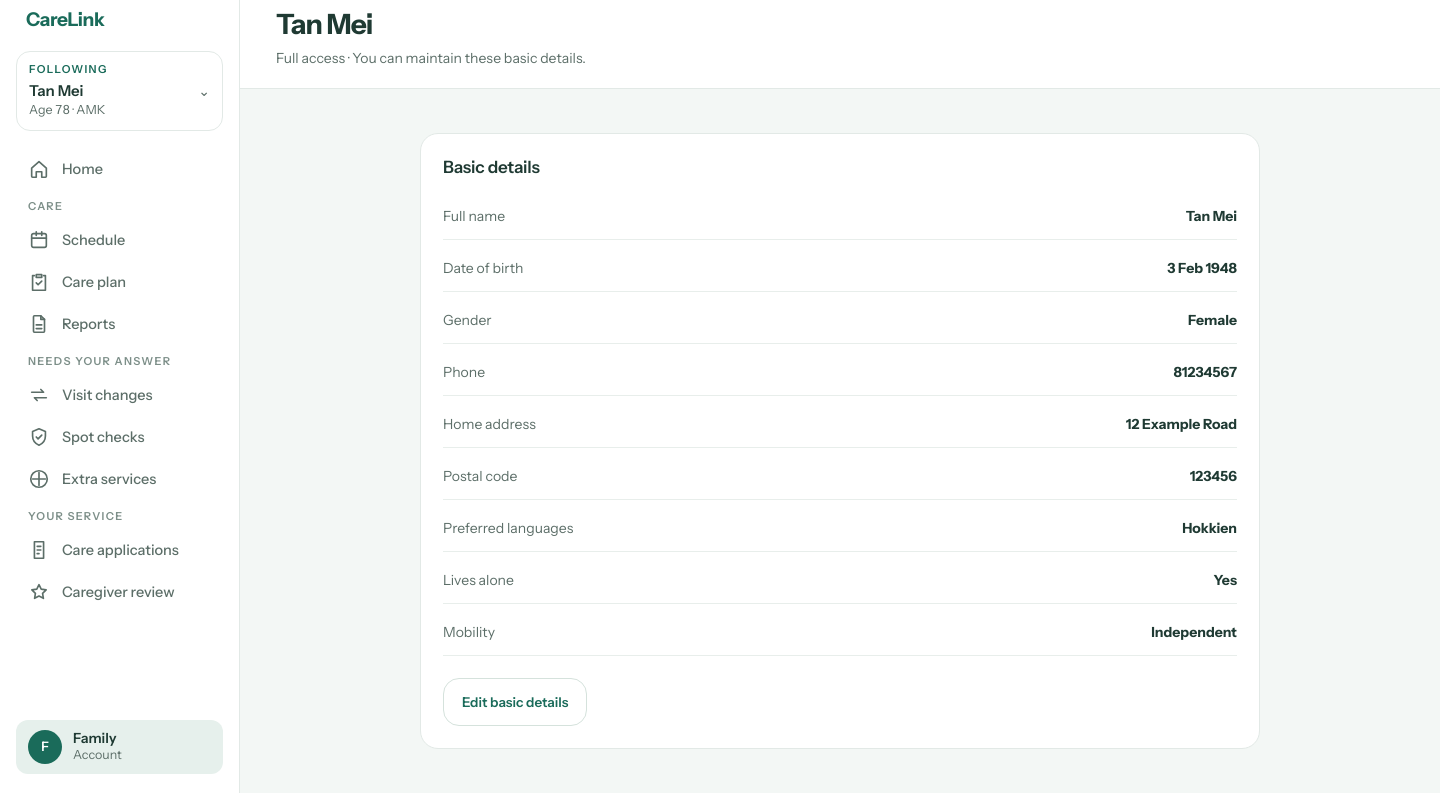
Scenario: My elders and basic details › cancels an edit and restores saved values when reopened
This screenshot has width=1440, height=793.
(page scrolled)
Click the button "Edit basic details".
click(515, 702)  # box x1=443 y1=678 x2=587 y2=726
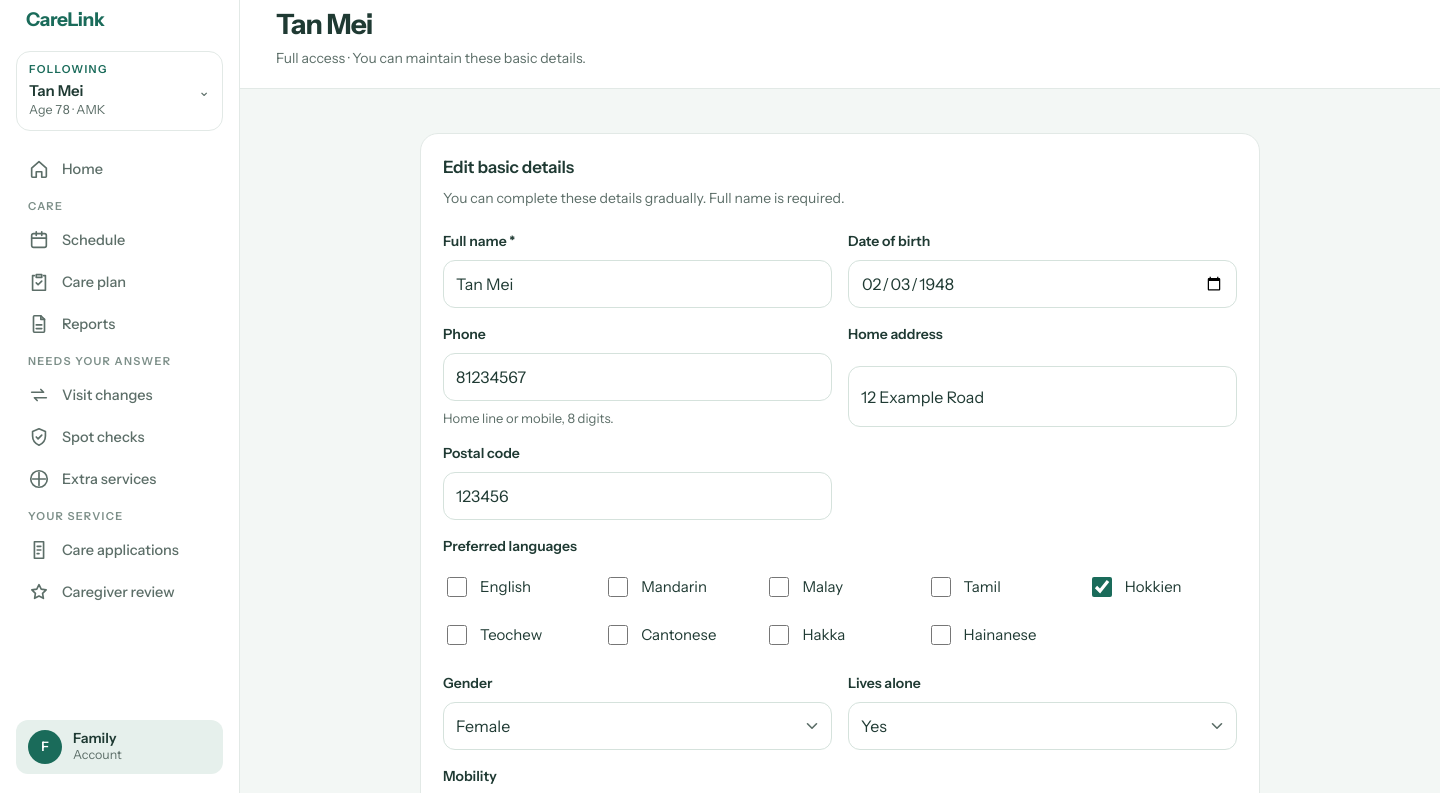
Replace the text in the field labelled "Full name *" with "Unsaved name" at [638, 284], box x1=443 y1=260 x2=832 y2=308
(page scrolled)
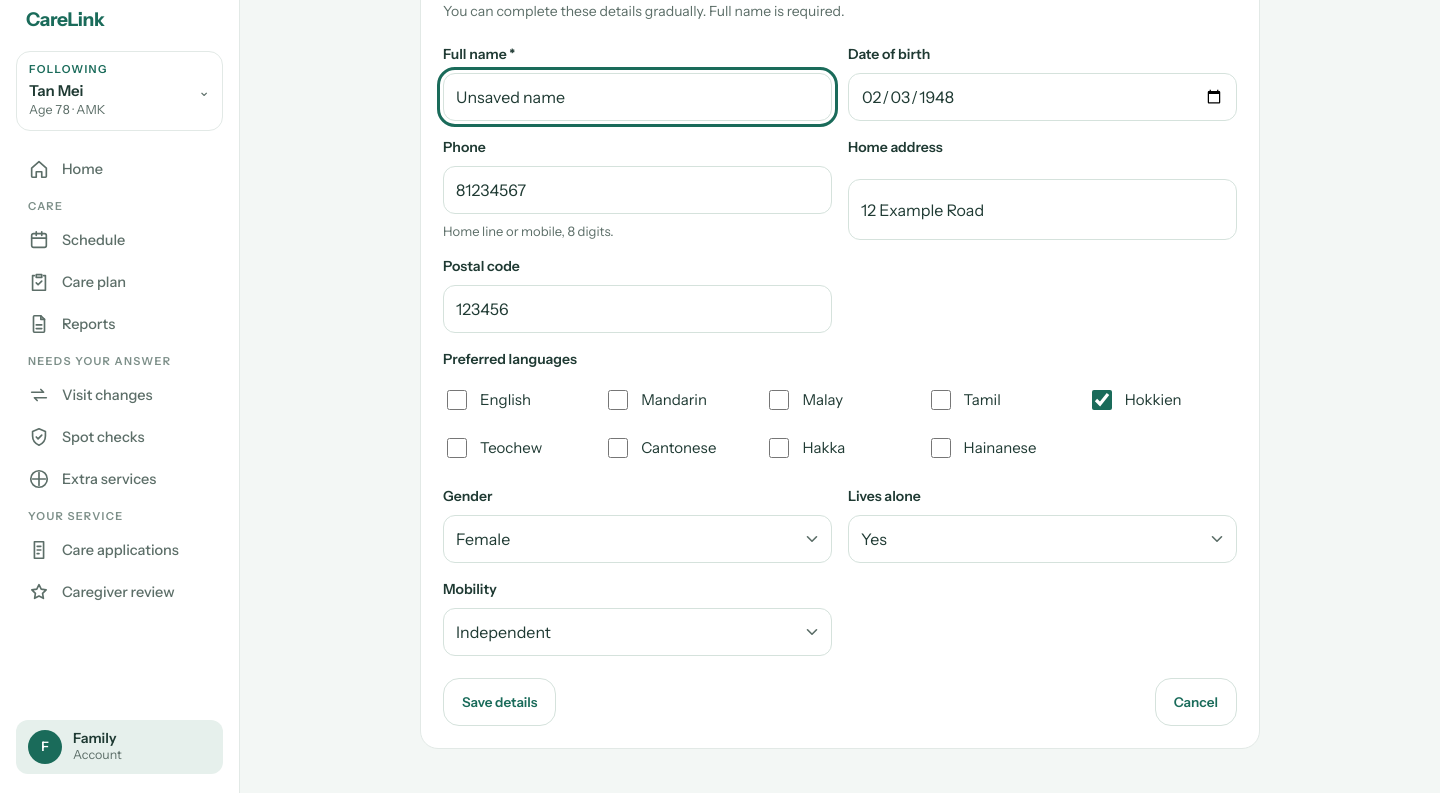
Click the button "Cancel".
click(1196, 702)  # box x1=1155 y1=678 x2=1237 y2=726
(page scrolled)
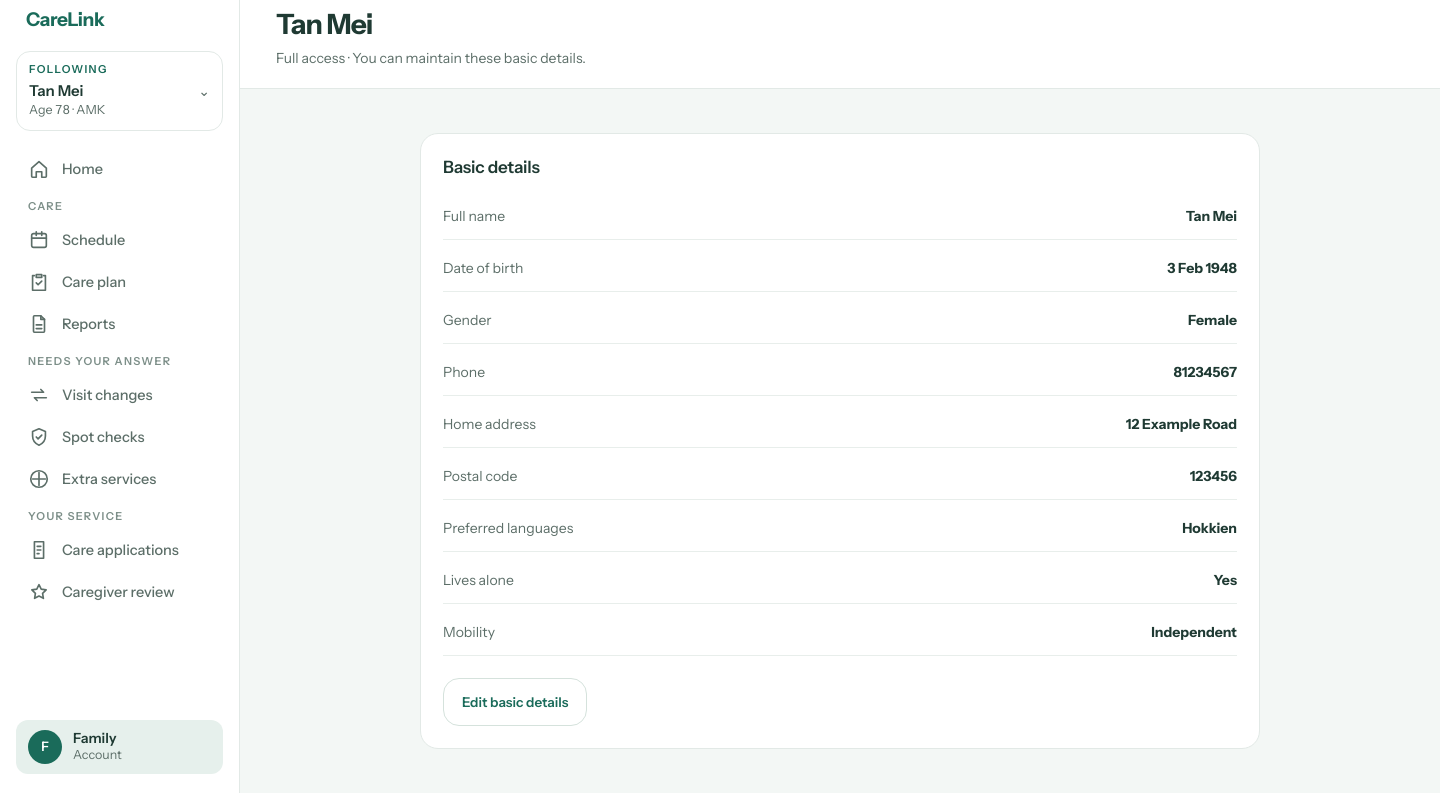
Click the button "Edit basic details".
click(515, 702)  # box x1=443 y1=678 x2=587 y2=726
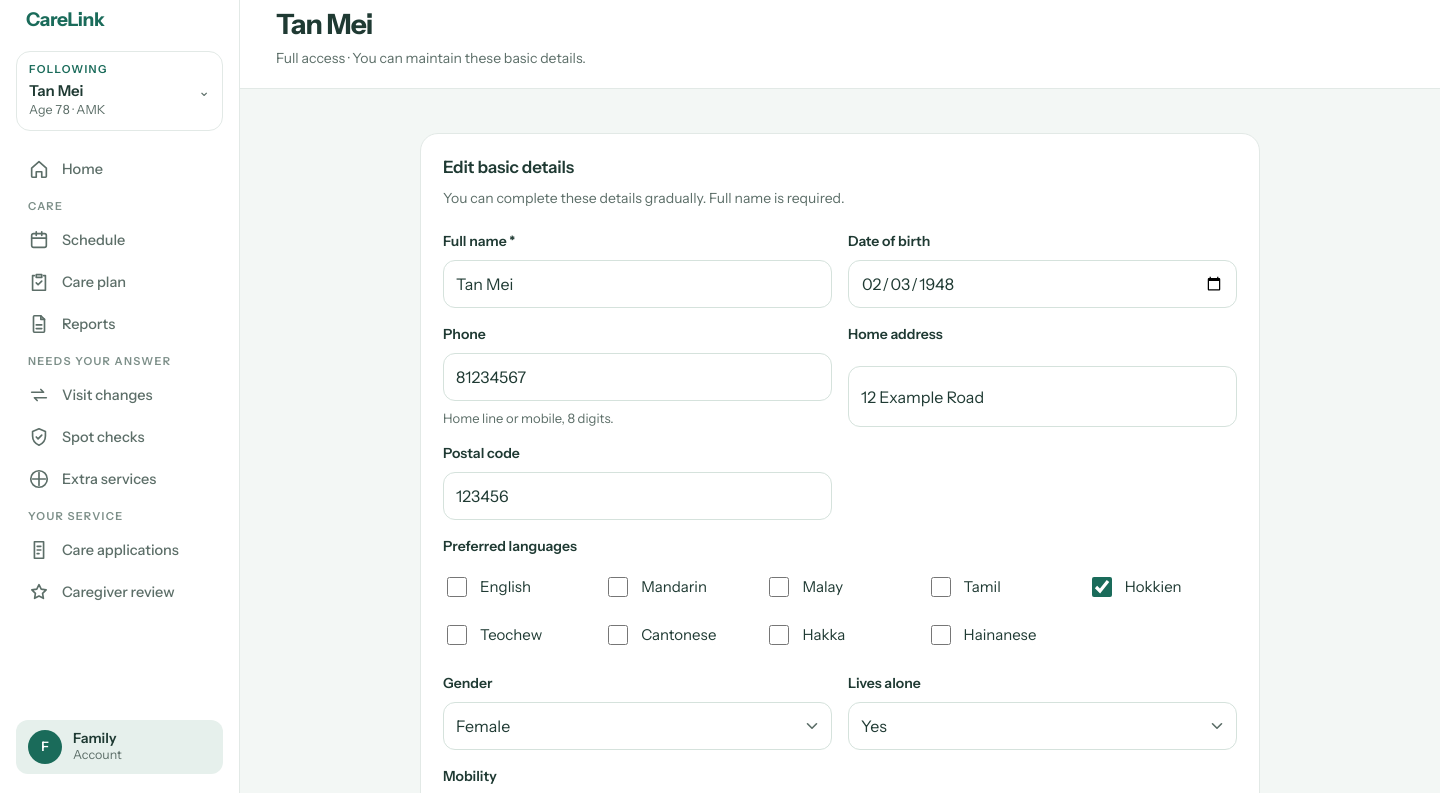
Expected: the field labelled "Full name *" holds "Tan Mei", x1=443 y1=260 x2=832 y2=308
